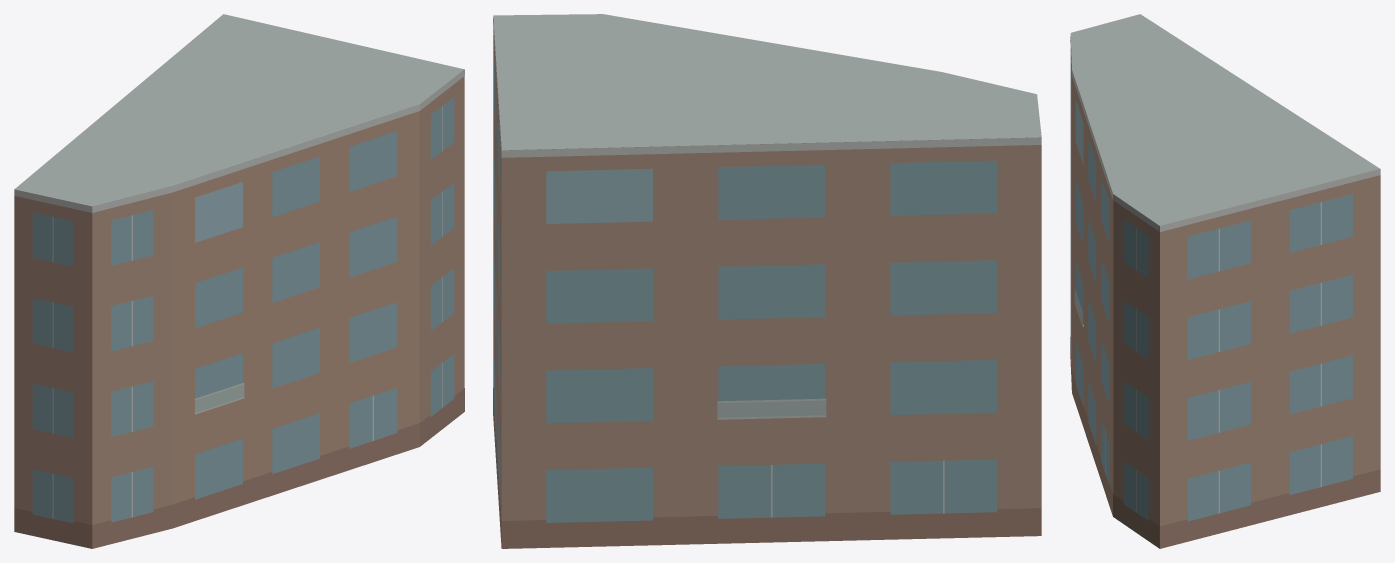
Rendered from survey-upis-32587804.glb.
3 views of the same model, side by side, from view 1: azimuth 30°, elevation 25°; view 2: azimuth 150°, elevation 25°; view 3: azimuth 270°, elevation 25° (orthographic). The views are drawn at different scales.
Visible parts, largest first — view 1: survey-upis-32587804.tmp; view 2: survey-upis-32587804.tmp; view 3: survey-upis-32587804.tmp.
Part boxes in pixels (left/top/right/bottom): survey-upis-32587804.tmp: left=14, top=14, right=464, bottom=548; survey-upis-32587804.tmp: left=493, top=14, right=1041, bottom=548; survey-upis-32587804.tmp: left=1070, top=14, right=1380, bottom=548.
Bounding box in the file's own units: 18.18 × 12.9 × 11.24.
